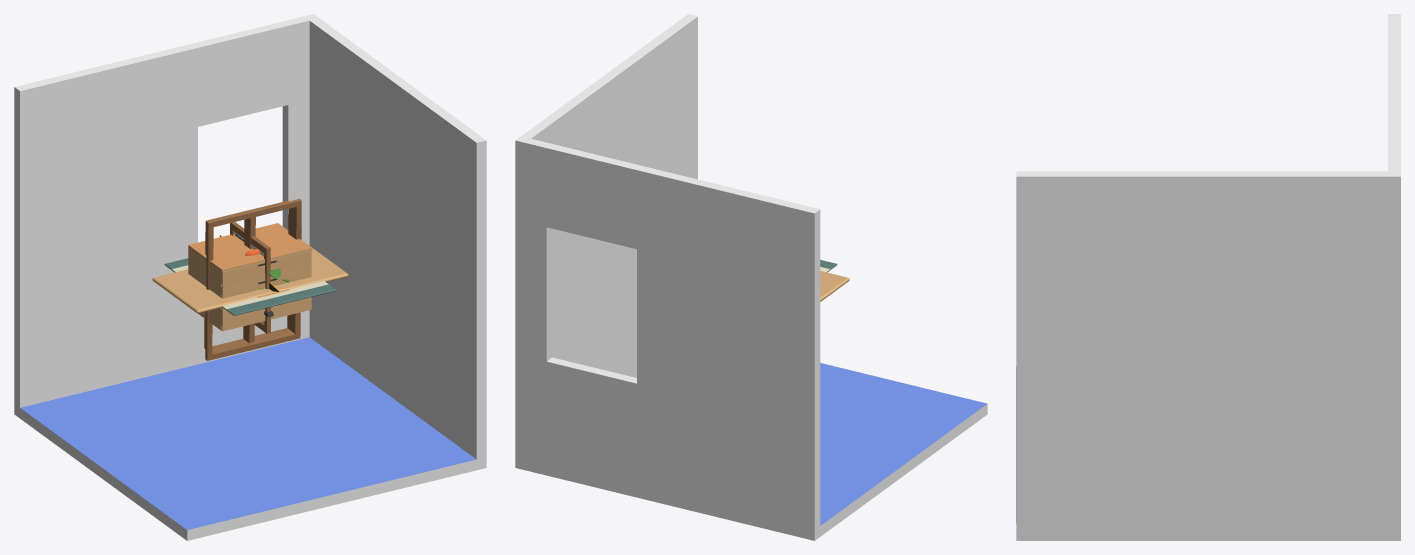
3 renders of one model, left to right at view 1: azimuth 30°, elevation 25°; view 2: azimuth 150°, elevation 25°; view 3: azimuth 270°, elevation 25°, orthographic. The views are drawn at different scales.
Parts seen in each view (by area): view 1: Room, DeskDrawer.001, WindowPane, TableTop, Plane, Poster; view 2: Room; view 3: Room.
Boxes of the visible parts, box(x1,y1,x2,y2) form: Room: box(14, 14, 486, 540); DeskDrawer.001: box(188, 223, 312, 331); WindowPane: box(204, 199, 301, 360); TableTop: box(152, 241, 348, 313); Plane: box(164, 258, 336, 315); Poster: box(230, 222, 270, 333); Room: box(515, 14, 987, 540); Room: box(1016, 14, 1400, 540).
Bounding box in the file's own units: 150801 × 157633 × 150801.
